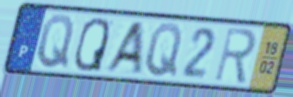2: (179, 26, 219, 81)
A: (101, 20, 146, 74)
Q: (34, 13, 76, 71), (143, 21, 184, 80), (72, 16, 111, 74)
R: (212, 25, 258, 85)
